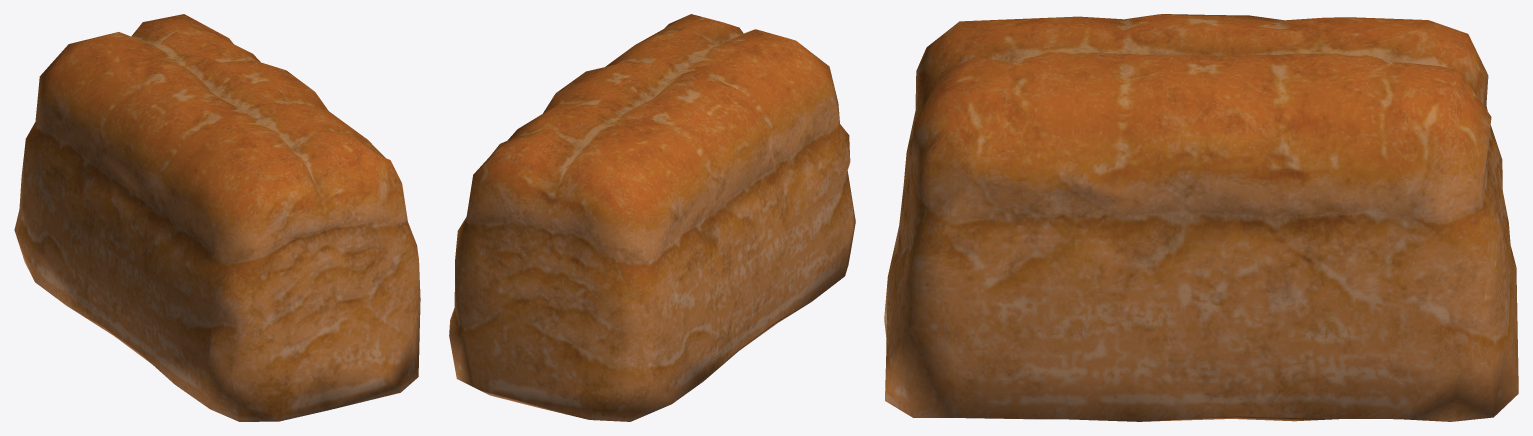
Rendered from Bread_8.obj.
3 views of the same model, side by side, from view 1: azimuth 30°, elevation 25°; view 2: azimuth 150°, elevation 25°; view 3: azimuth 270°, elevation 25° (orthographic). The views are drawn at different scales.
Parts seen in each view (by area): view 1: bread4_a_mesh; view 2: bread4_a_mesh; view 3: bread4_a_mesh.
Part boxes in pixels (bbox=[...]): bread4_a_mesh: bbox=[14, 14, 420, 421]; bread4_a_mesh: bbox=[449, 14, 855, 421]; bread4_a_mesh: bbox=[884, 14, 1518, 421].
Size of the model in its own units: 0.1398 by 0.1509 by 0.2673.
